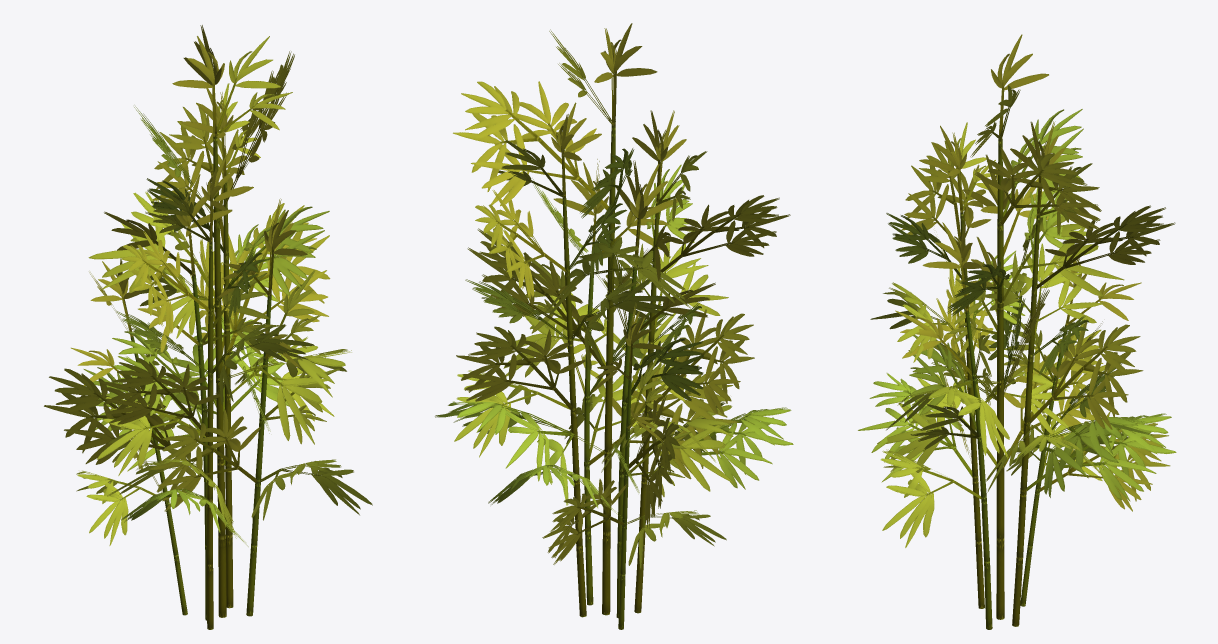
Rendered from caytre.fbx.
3 renders of one model, left to right at view 1: azimuth 30°, elevation 25°; view 2: azimuth 150°, elevation 25°; view 3: azimuth 270°, elevation 25°, orthographic. The views are drawn at different scales.
Parts seen in each view (by area): view 1: Bamboo_Forrest:bamboo:bamboo; view 2: Bamboo_Forrest:bamboo:bamboo; view 3: Bamboo_Forrest:bamboo:bamboo.
Boxes of the visible parts, box(x1,y1,x2,y2) form: Bamboo_Forrest:bamboo:bamboo: box(44, 25, 372, 629); Bamboo_Forrest:bamboo:bamboo: box(435, 23, 793, 629); Bamboo_Forrest:bamboo:bamboo: box(858, 34, 1176, 629).
Bounding box in the file's own units: 12 × 21.75 × 12.1.
